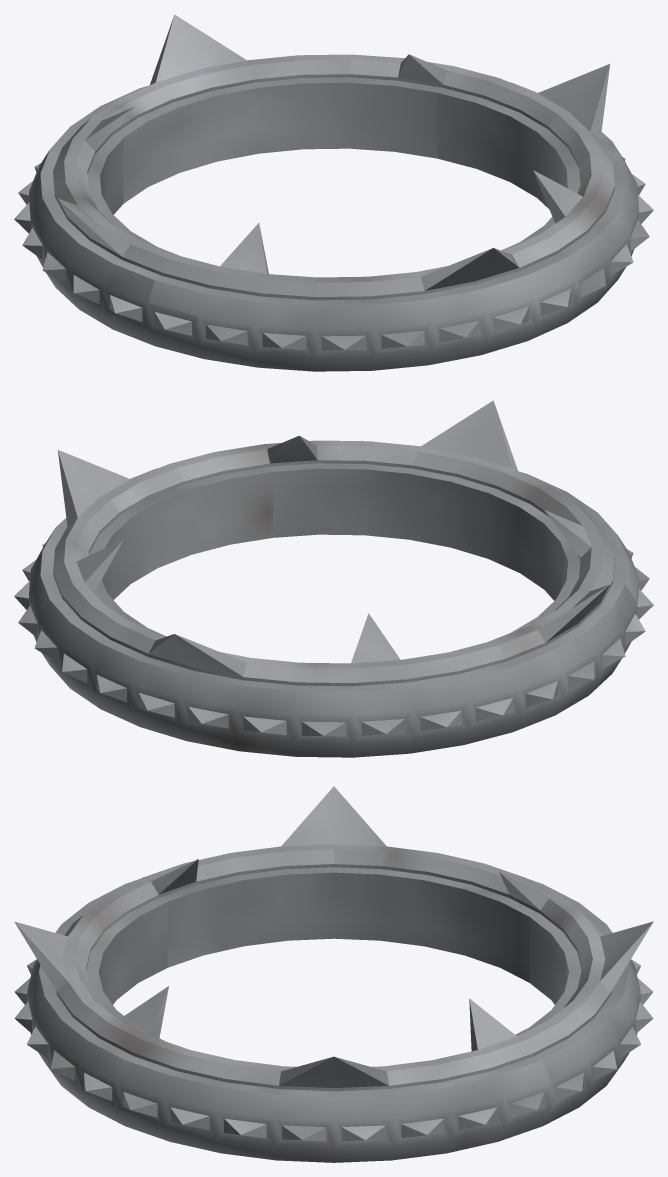
The model's file is fire trap_Final.fbx.
3 views of the same model, one above another, from view 1: azimuth 30°, elevation 25°; view 2: azimuth 150°, elevation 25°; view 3: azimuth 270°, elevation 25° (orthographic).
Visible parts, largest first — view 1: 원형; view 2: 원형; view 3: 원형.
Boxes of the visible parts, bbox=[...] form: 원형: bbox=[14, 14, 653, 371]; 원형: bbox=[14, 400, 653, 757]; 원형: bbox=[14, 786, 653, 1162].
Size of the model in its own units: 217 by 43.7 by 217.
1 material, 1 textured.
